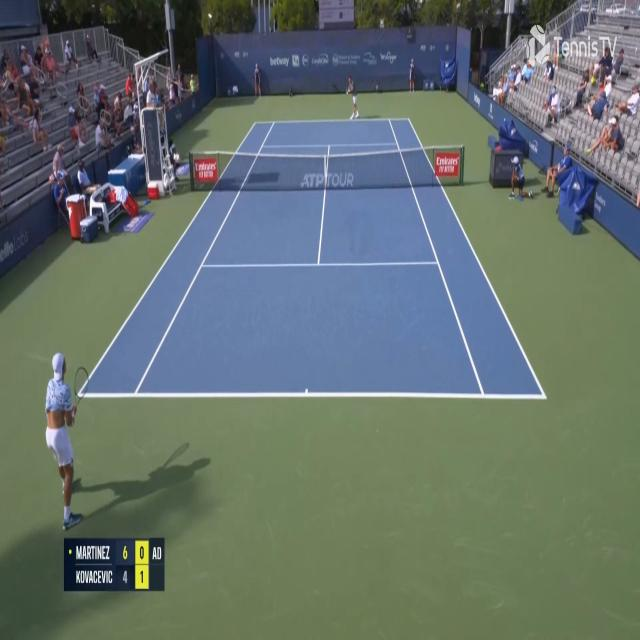tennis-player: (42, 349, 90, 533), (342, 74, 360, 122)
